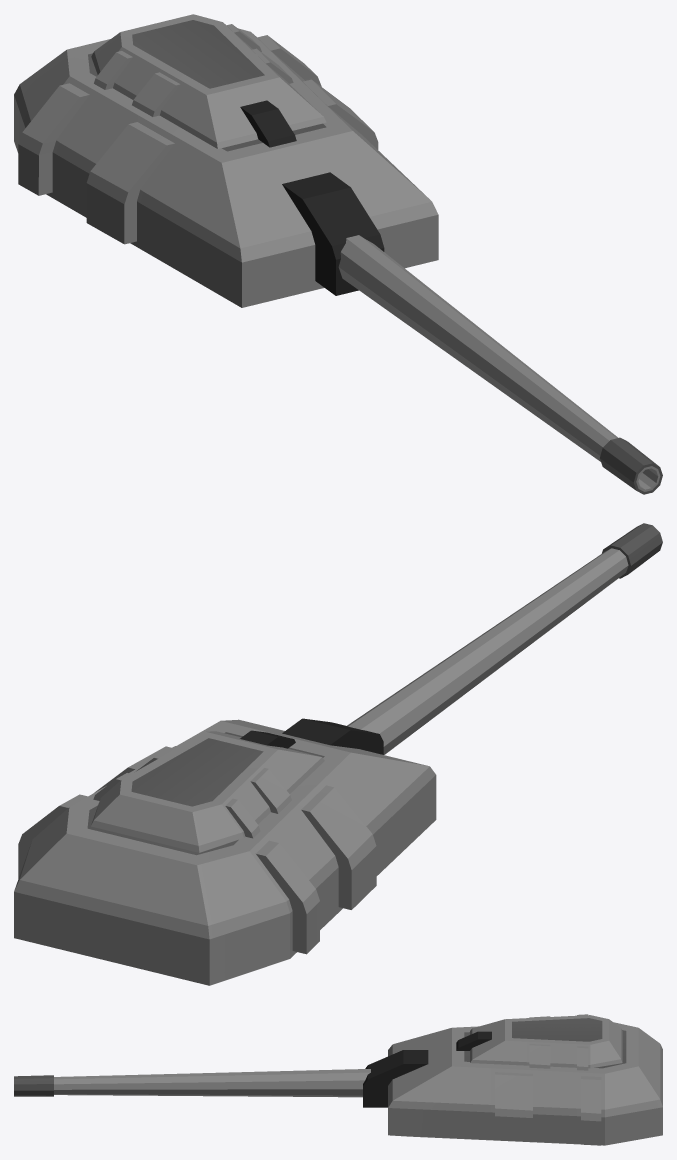
The model's file is model_polyfleet_battleship_canon03.fbx.
3 renders of one model, top to bottom at view 1: azimuth 30°, elevation 25°; view 2: azimuth 150°, elevation 25°; view 3: azimuth 270°, elevation 25°, orthographic. The views are drawn at different scales.
Parts seen in each view (by area): view 1: model_cannon03, model_cannon_small_barrels; view 2: model_cannon03, model_cannon_small_barrels; view 3: model_cannon03, model_cannon_small_barrels.
Boxes of the visible parts, x1,y1,x2,y2 form: model_cannon03: (14, 14, 438, 307); model_cannon_small_barrels: (338, 235, 662, 494); model_cannon03: (14, 718, 436, 985); model_cannon_small_barrels: (347, 523, 662, 754); model_cannon03: (363, 1014, 662, 1145); model_cannon_small_barrels: (14, 1069, 370, 1097).
Bounding box in the file's own units: 263 × 116 × 844.
